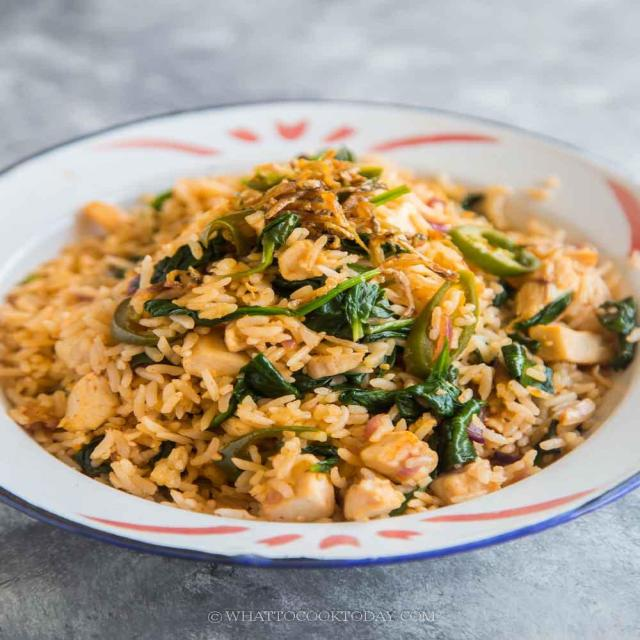Nasi Goreng: (3, 147, 636, 523)
